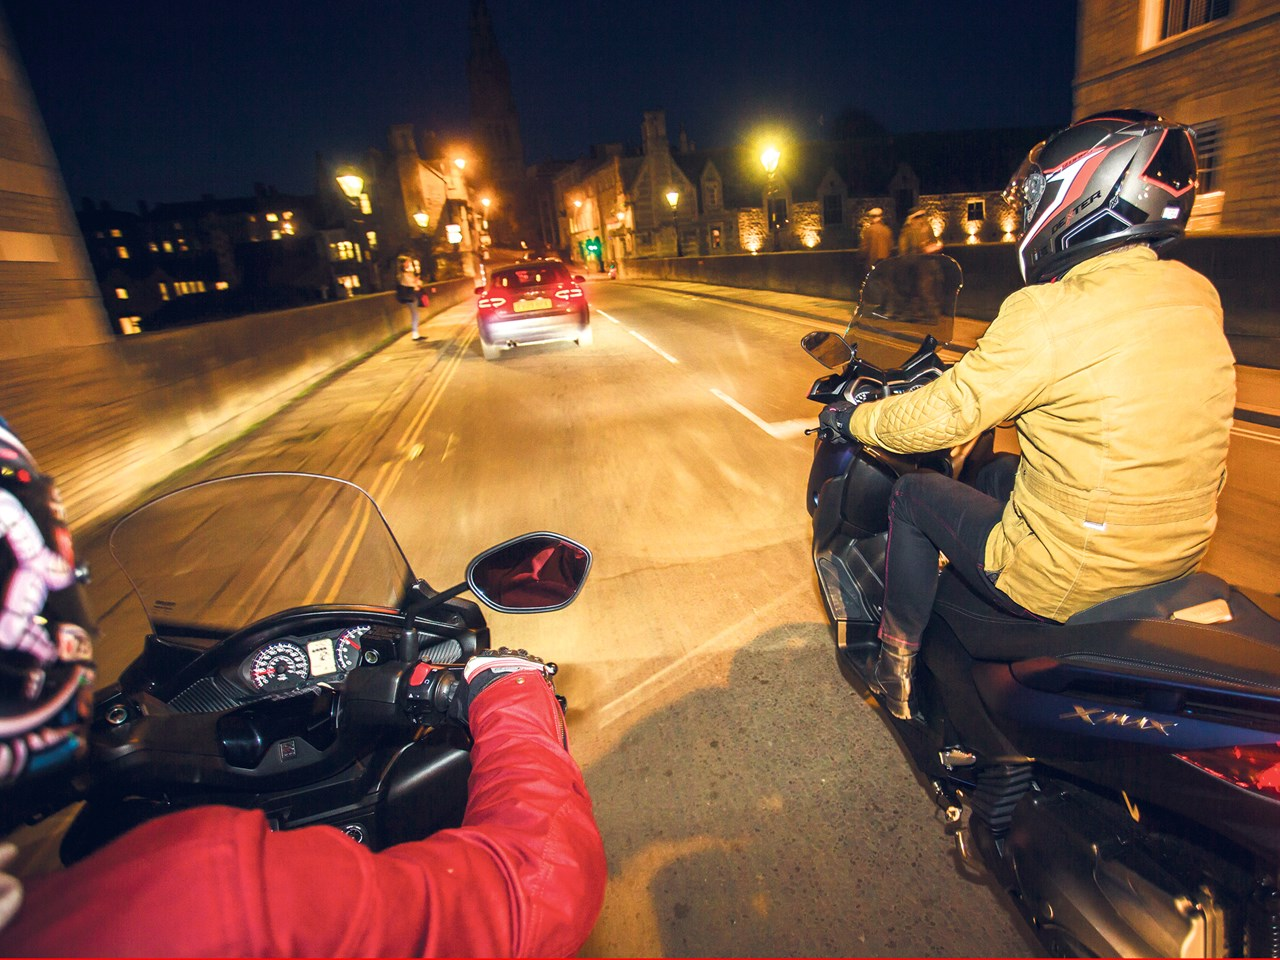bike: (837, 119, 1280, 960), (1, 426, 594, 960)
car: (464, 254, 593, 355)
